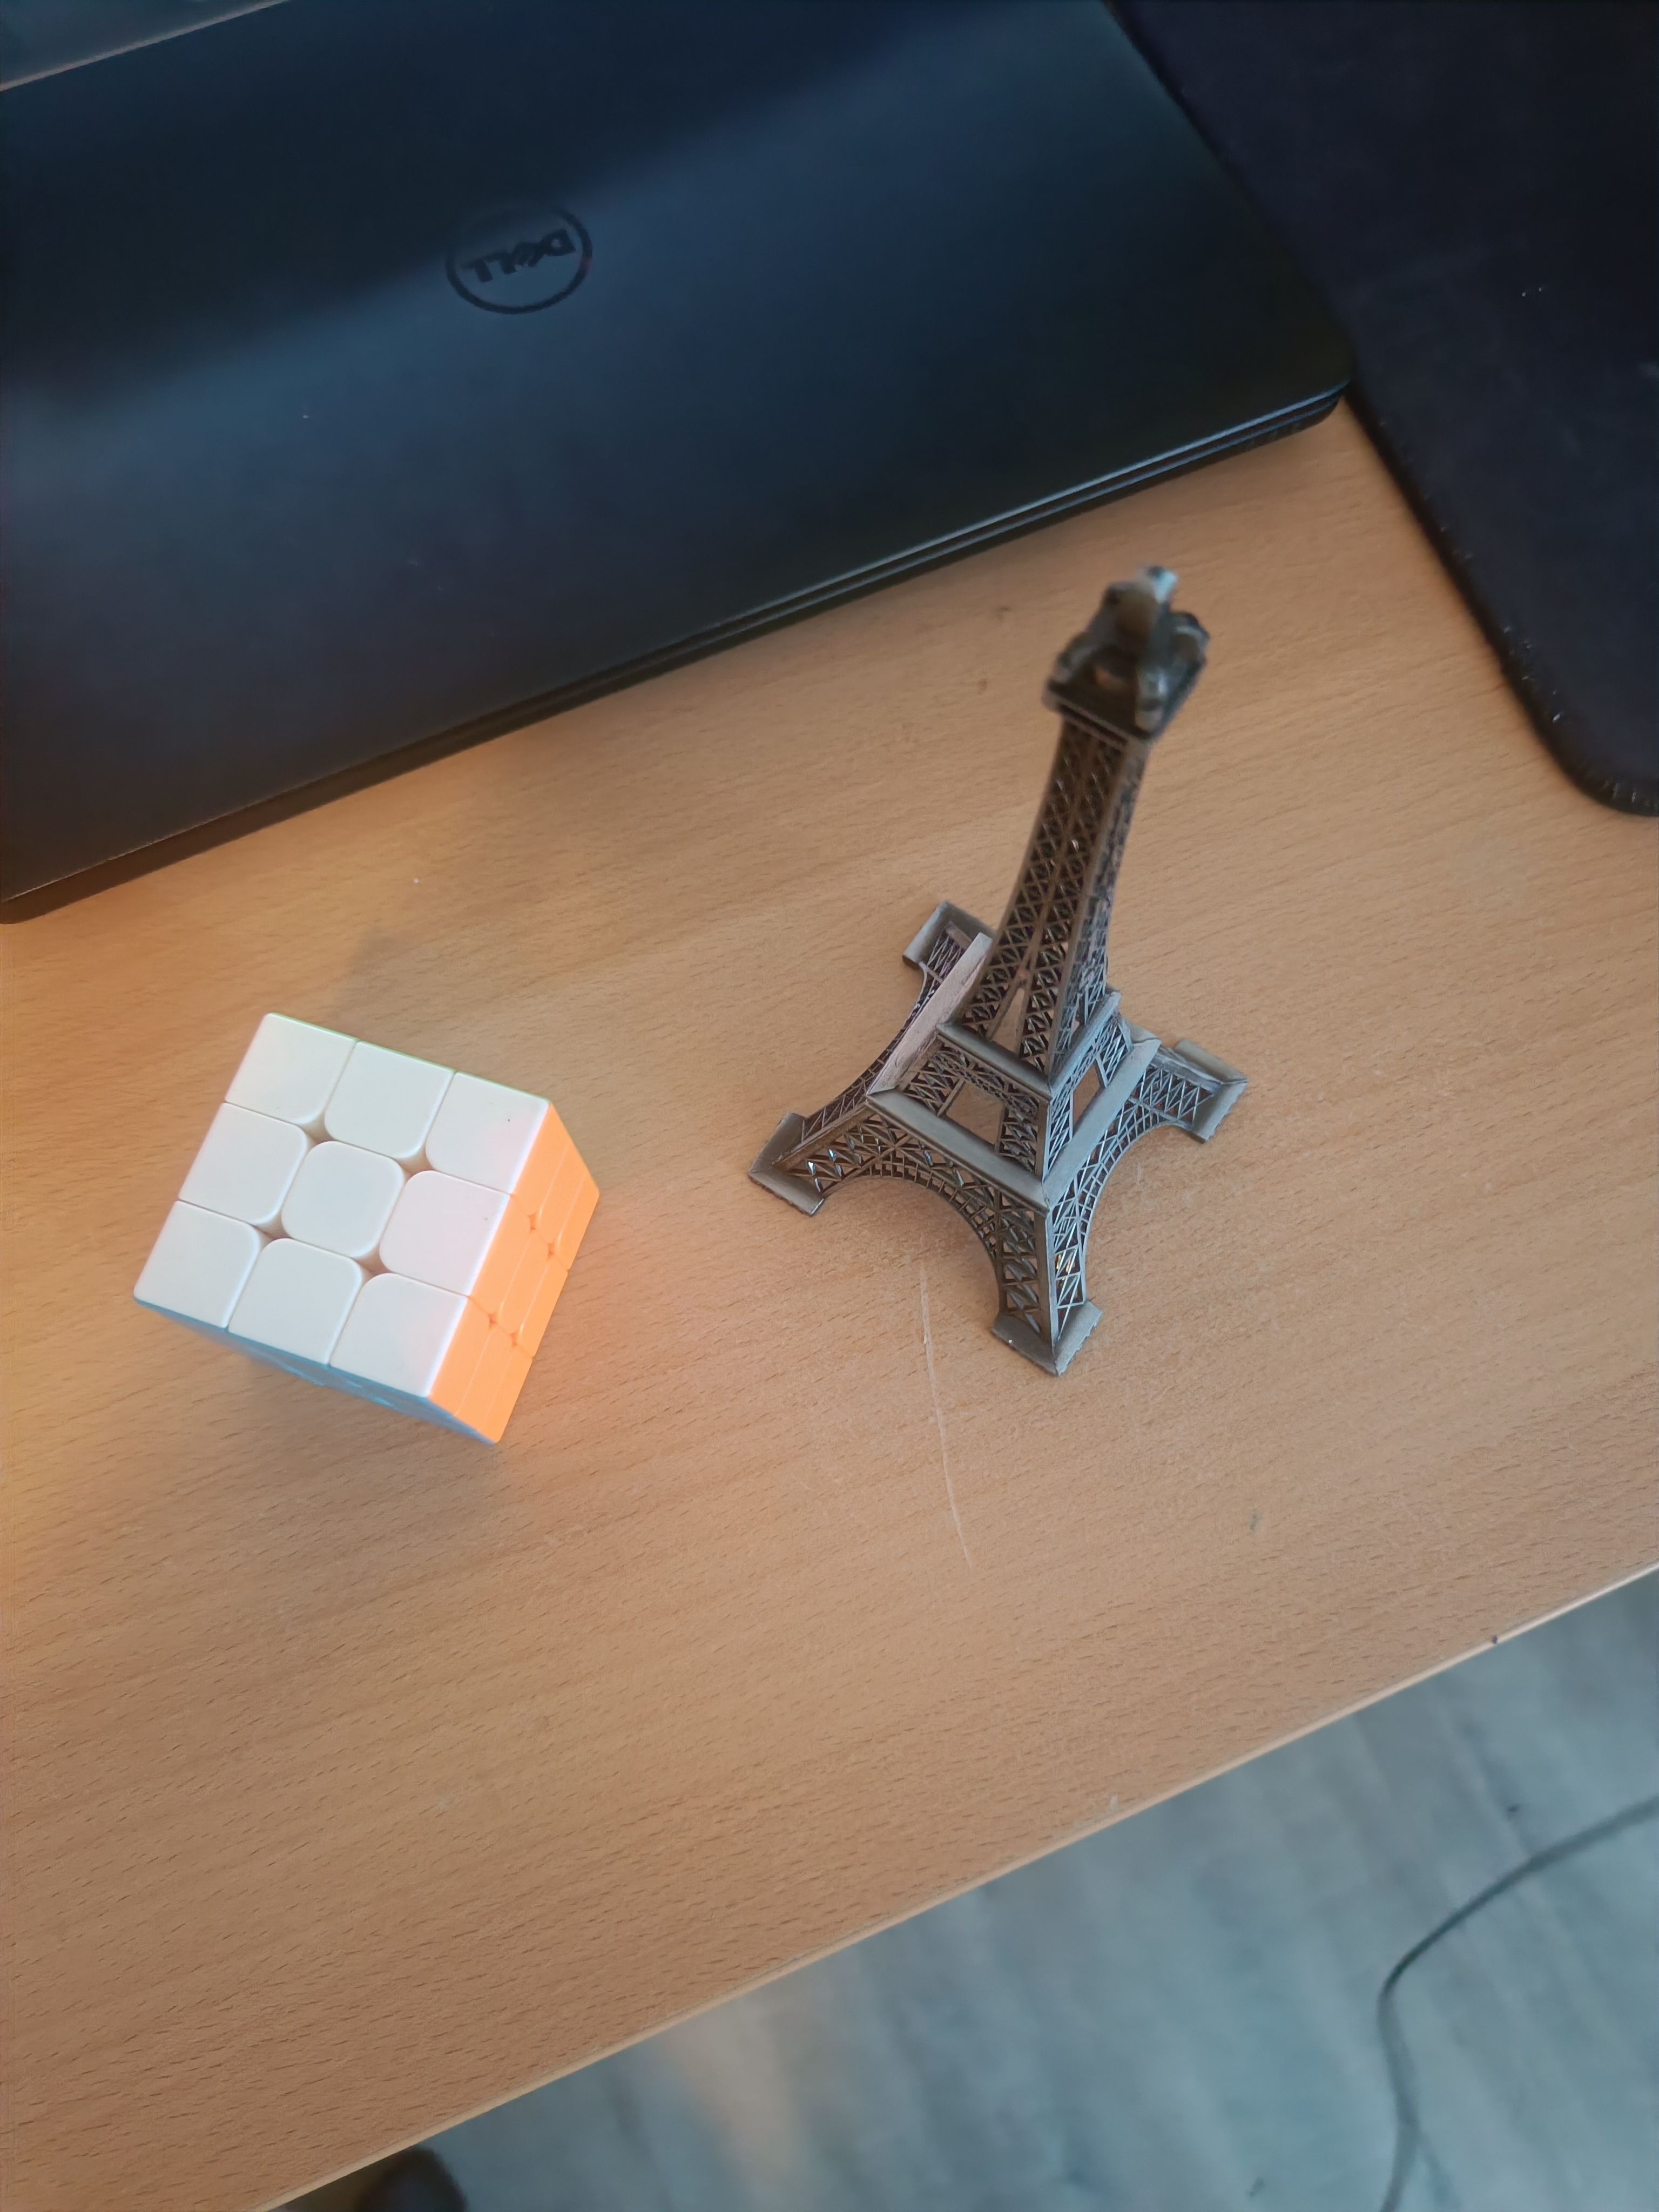Eiffel Tower: (739, 557, 1234, 1411)
Rubiks Cube: (110, 1010, 613, 1468)
